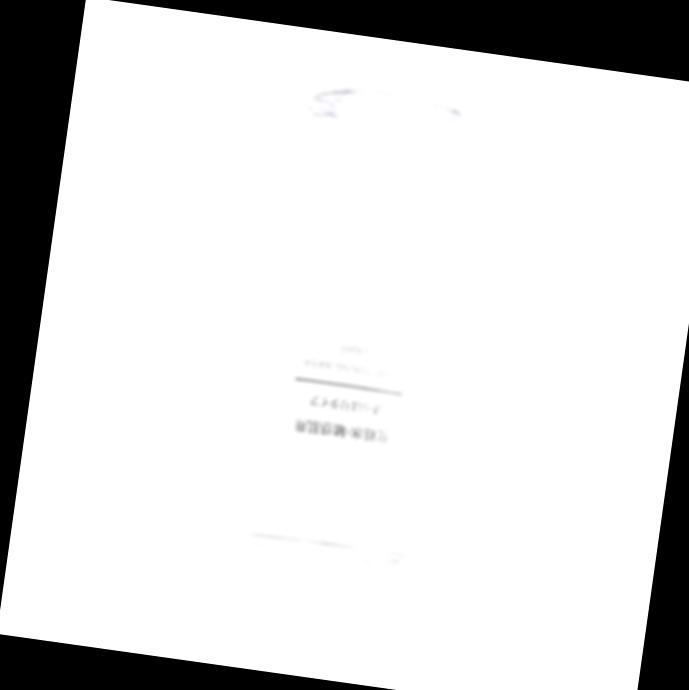cosmetic: (233, 86, 473, 633)
